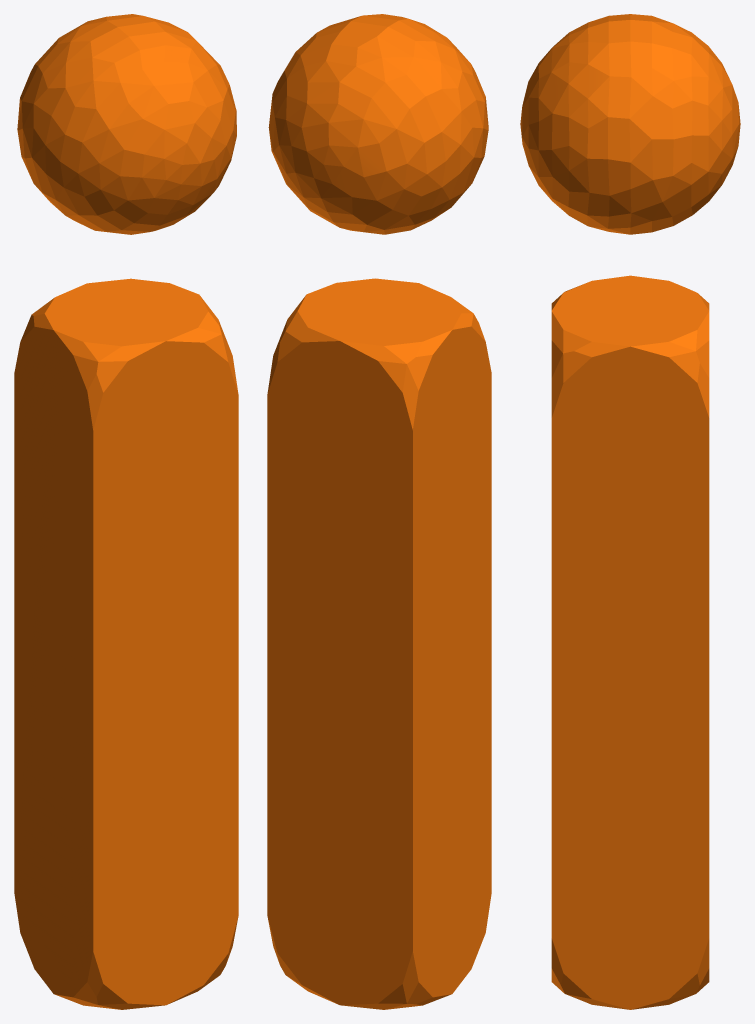
The model's file is player-c.glb.
3 renders of one model, left to right at view 1: azimuth 30°, elevation 25°; view 2: azimuth 150°, elevation 25°; view 3: azimuth 270°, elevation 25°, orthographic.
Visible parts, largest first — view 1: Player; view 2: Player; view 3: Player.
Part boxes in pixels (x1,y1,x2,y2): Player: (14,14,238,1009); Player: (267,14,491,1009); Player: (520,14,740,1009).
Bounding box in the file's own units: 0.2099 × 1 × 0.21.
